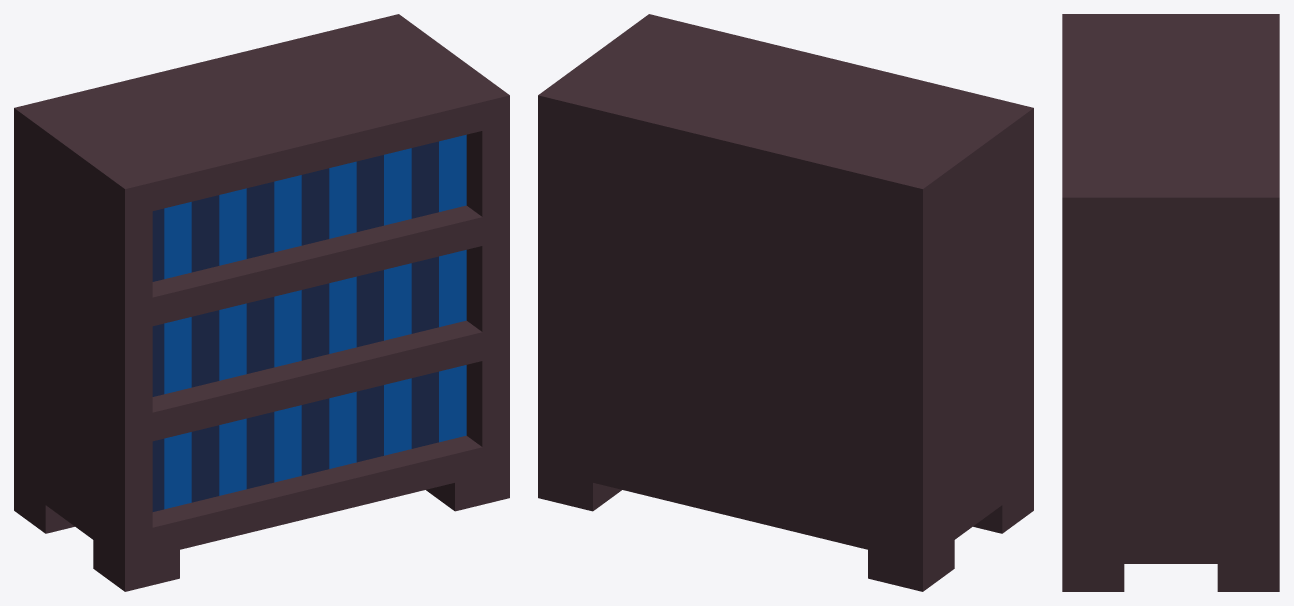
The model's file is large_bookcase_c_blue.obj.
3 renders of one model, left to right at view 1: azimuth 30°, elevation 25°; view 2: azimuth 150°, elevation 25°; view 3: azimuth 270°, elevation 25°, orthographic. The views are drawn at different scales.
Size of the model in its own units: 1.4 by 1.4 by 0.7.
1 material, 1 textured.
